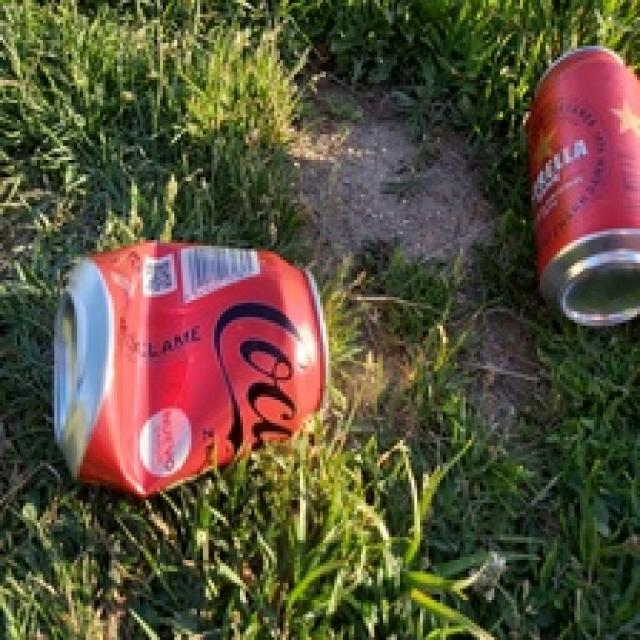recyclable: (50, 242, 336, 496), (525, 42, 640, 331)
